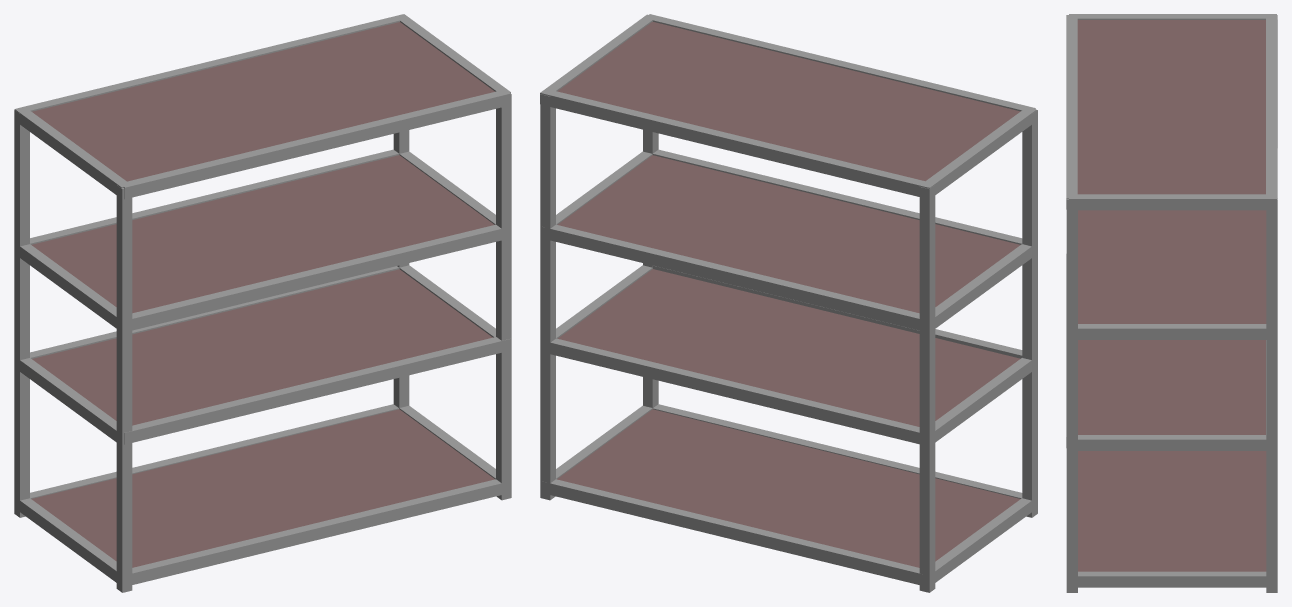
Rendered from stellage_kast.glb.
3 views of the same model, side by side, from view 1: azimuth 30°, elevation 25°; view 2: azimuth 150°, elevation 25°; view 3: azimuth 270°, elevation 25° (orthographic). The views are drawn at different scales.
Visible parts, largest first — view 1: pCube8, pCube1, pCube7, pCube6, pCube10, pCube11, pCube9, pCube2, pCube12, pCube3, pCube5, pCube16 (+12 smaller); view 2: pCube8, pCube1, pCube7, pCube6, pCube13, pCube15, pCube16, pCube5, pCube14, pCube4, pCube2, pCube10 (+12 smaller); view 3: pCube8, pCube1, pCube7, pCube6, pCube3, pCube4, pCube17, pCube22, pCube23, pCube24, pCube10, pCube16 (+1 smaller).
Part boxes in pixels (x1,y1,x2,y2): pCube8: (32, 22, 494, 181); pCube1: (31, 409, 494, 567); pCube7: (32, 155, 494, 313); pCube6: (32, 269, 492, 425); pCube10: (119, 89, 510, 199); pCube11: (124, 337, 510, 444); pCube9: (124, 224, 510, 332); pCube2: (116, 185, 132, 592); pCube12: (124, 479, 508, 584); pCube3: (496, 94, 511, 500); pCube5: (14, 110, 29, 517); pCube16: (17, 14, 407, 112); pCube8: (557, 22, 1020, 181); pCube1: (557, 409, 1020, 567); pCube7: (557, 155, 1020, 313); pCube6: (558, 269, 1020, 426); pCube13: (541, 479, 927, 586); pCube15: (541, 224, 927, 332); pCube16: (541, 89, 932, 196); pCube5: (919, 185, 935, 592); pCube14: (550, 338, 919, 444); pCube4: (540, 94, 555, 500); pCube2: (1022, 110, 1037, 517); pCube10: (644, 14, 1035, 112); pCube8: (1077, 20, 1265, 194); pCube1: (1078, 451, 1266, 571); pCube7: (1078, 210, 1266, 323); pCube6: (1078, 340, 1265, 434); pCube3: (1066, 199, 1077, 592); pCube4: (1266, 195, 1277, 592); pCube17: (1069, 194, 1276, 210); pCube22: (1069, 571, 1276, 587); pCube23: (1069, 435, 1276, 450); pCube24: (1069, 324, 1276, 339); pCube10: (1066, 15, 1077, 209); pCube16: (1266, 15, 1277, 198).
Size of the model in its own units: 94.1 by 93.41 by 45.38.
